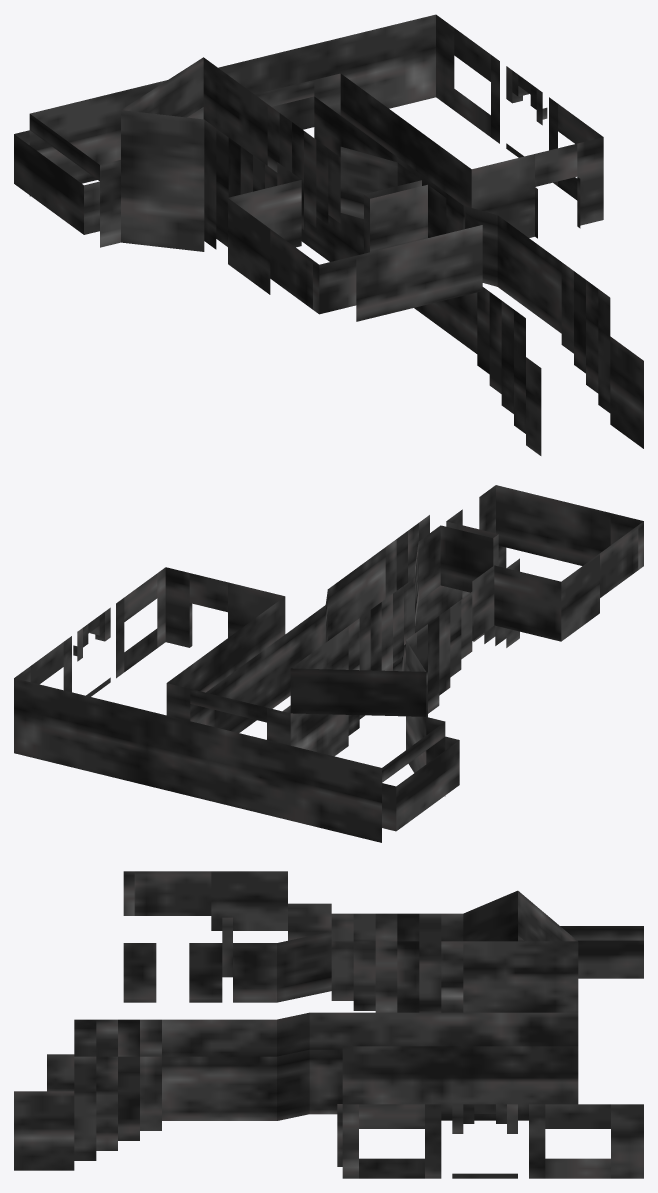
File: BRKGRY01.1.obj
3 renders of one model, top to bottom at view 1: azimuth 30°, elevation 25°; view 2: azimuth 150°, elevation 25°; view 3: azimuth 270°, elevation 25°, orthographic. The views are drawn at different scales.
Parts seen in each view (by area): view 1: BRKGRY01.1; view 2: BRKGRY01.1; view 3: BRKGRY01.1.
Part boxes in pixels (x1=…): BRKGRY01.1: x1=14, y1=14, x2=643, y2=455; BRKGRY01.1: x1=14, y1=485, x2=643, y2=842; BRKGRY01.1: x1=14, y1=871, x2=643, y2=1178.
Bounding box in the file's own units: 1312 × 592 × 1840.
